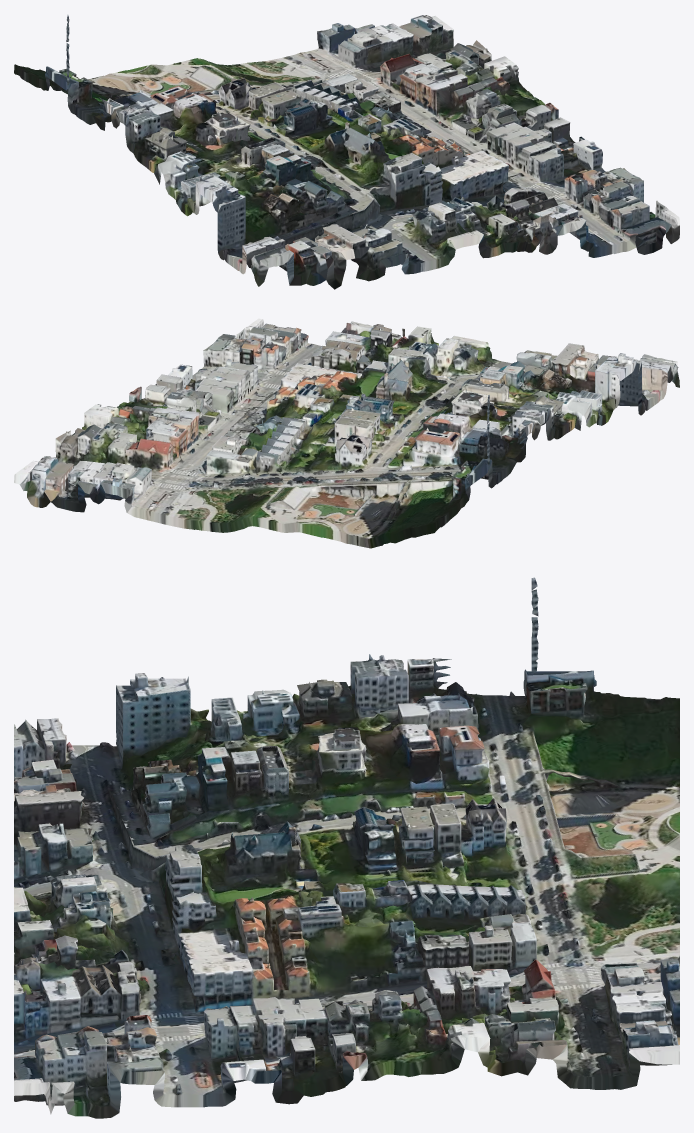
File: z17-20964-50648-h0-yup-uvflip-v3-world.glb
3 views of the same model, one above another, from view 1: azimuth 30°, elevation 25°; view 2: azimuth 150°, elevation 25°; view 3: azimuth 270°, elevation 25° (orthographic). The views are drawn at different scales.
Bounding box in the file's own units: 242 × 107 × 243.
Materials: 1 (1 with a texture image).
